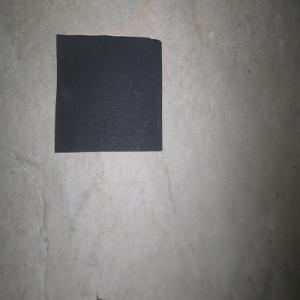PaintChip: (54, 33, 162, 152)
